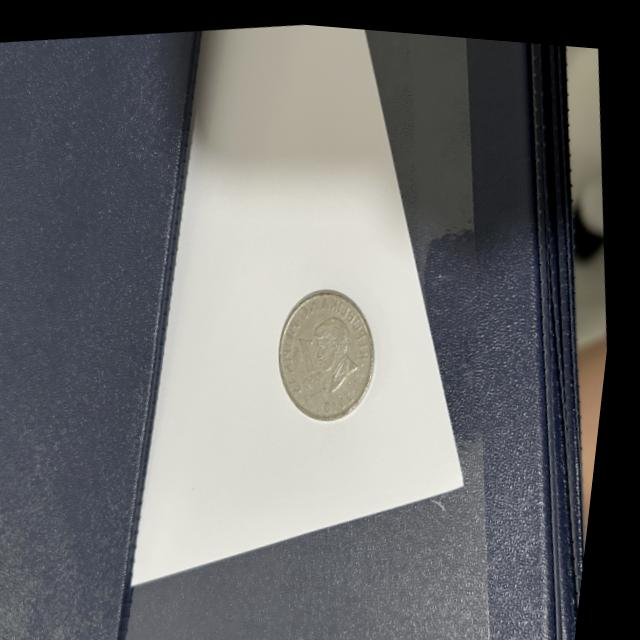1_Old_Front: (296, 323, 342, 392)
